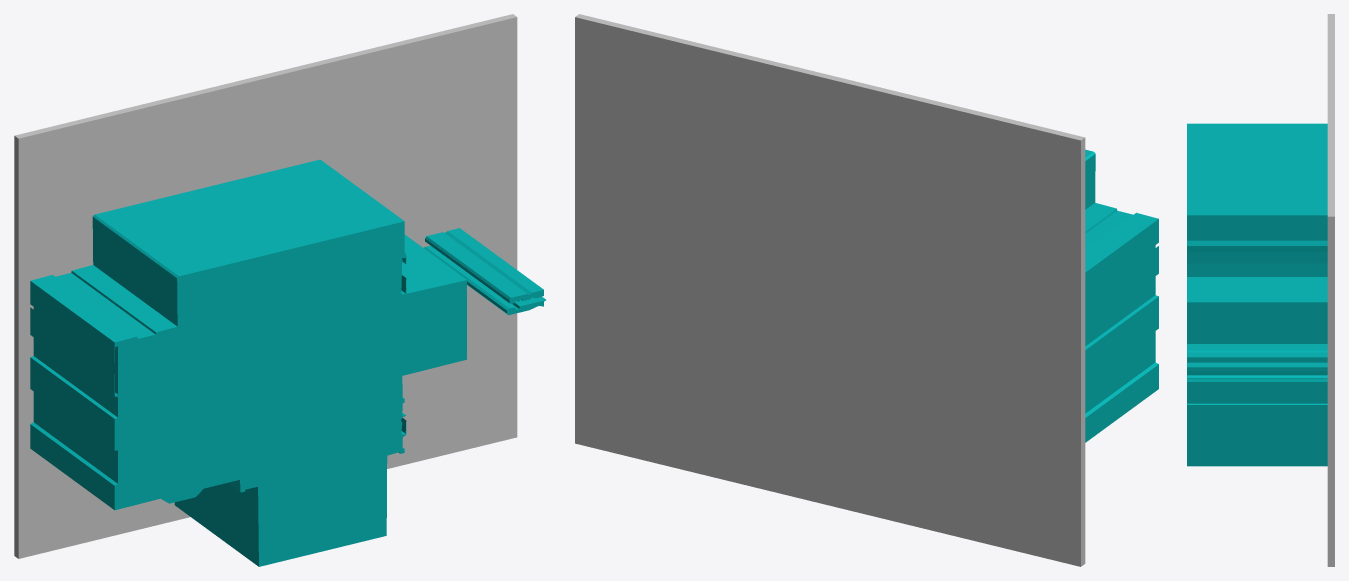
The picture shows the model from 3 angles, left to right: view 1: azimuth 30°, elevation 25°; view 2: azimuth 150°, elevation 25°; view 3: azimuth 270°, elevation 25°; orthographic projection. The views are drawn at different scales.
Visible parts, largest first — view 1: world; view 2: world; view 3: world.
Boxes of the visible parts, x1,y1,x2,y2 form: world: (14, 14, 545, 566); world: (575, 14, 1158, 566); world: (1187, 14, 1334, 566).
Size of the model in its own units: 10.23 by 8.24 by 3.15.
